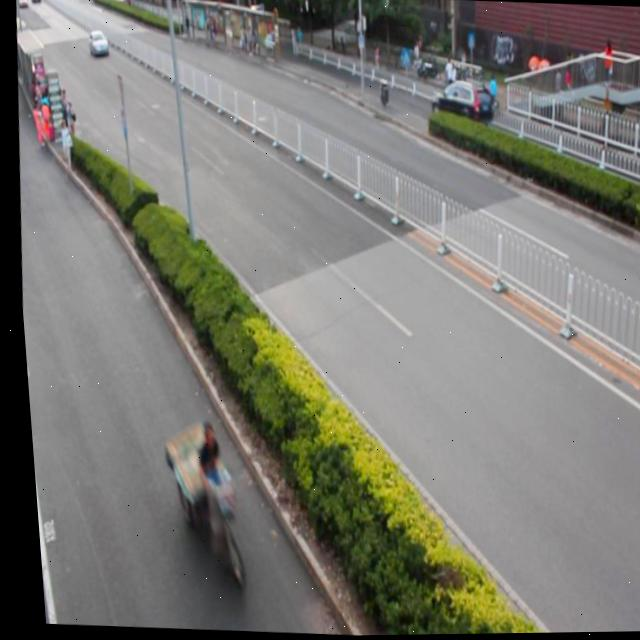car: (426, 79, 492, 132)
